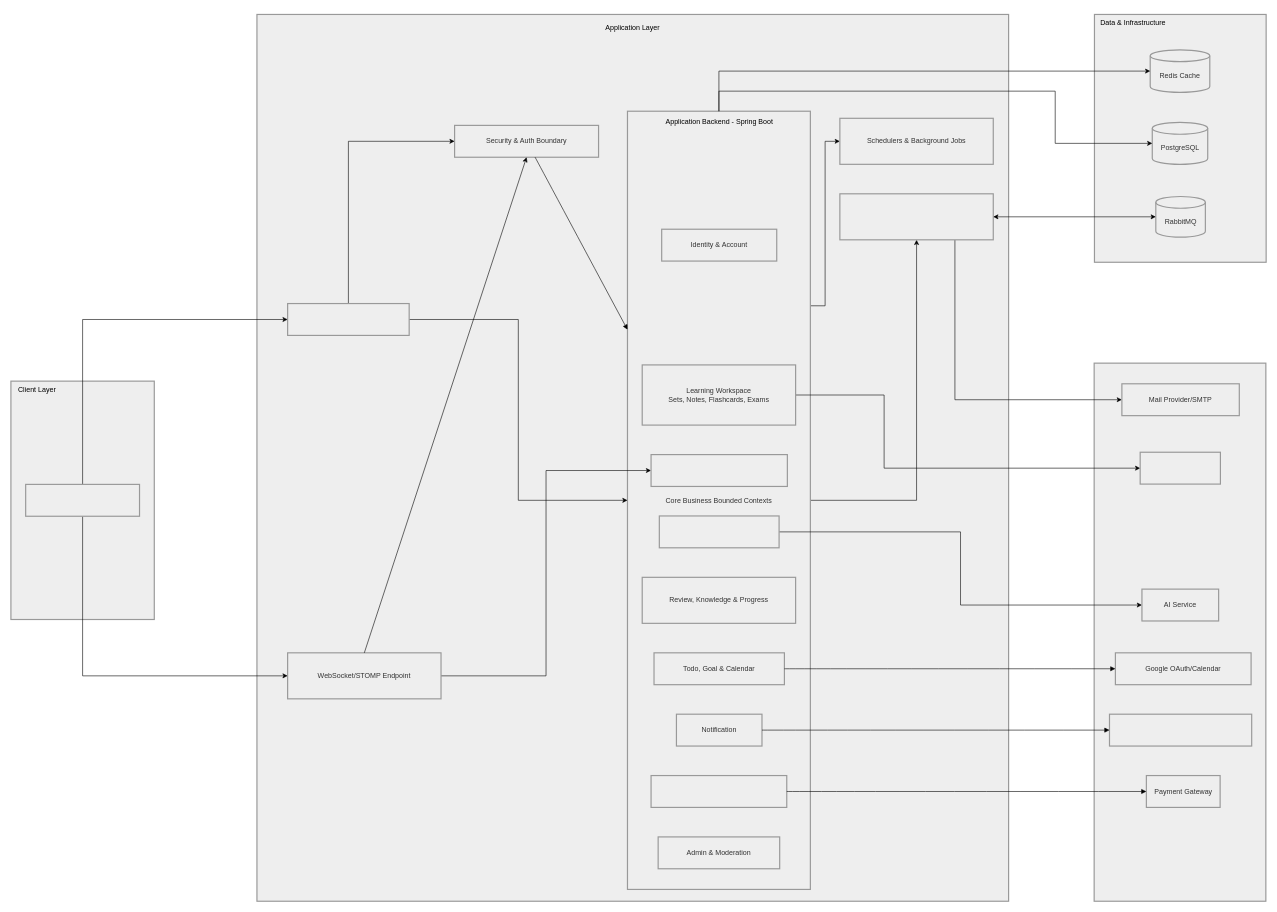
Image size: 1277x912. Some labels were removed from this diagram. Here are the shapes that lost their labels. From the top down, the centre of each, then its label:
the point at 916,216: Message Producer/Consumer
the point at 348,319: REST API Controllers
the point at 719,470: Real-time Collaboration
the point at 1180,467: Cloudinary
the point at 82,500: Web/Mobile Client
the point at 718,531: AI-assisted Learning
the point at 1180,729: Firebase Cloud Messaging
the point at 718,791: Payment & Subscription
